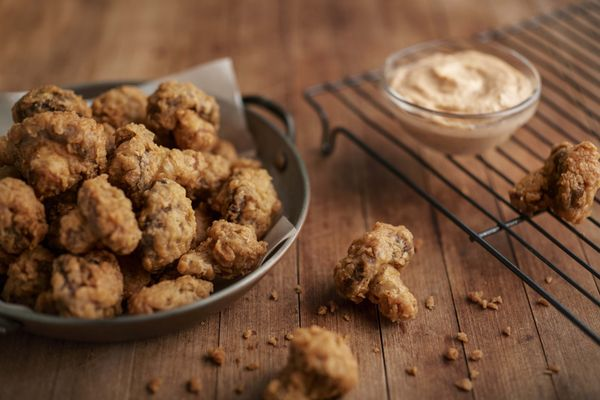sushi: (0, 68, 311, 344), (374, 35, 542, 154)
